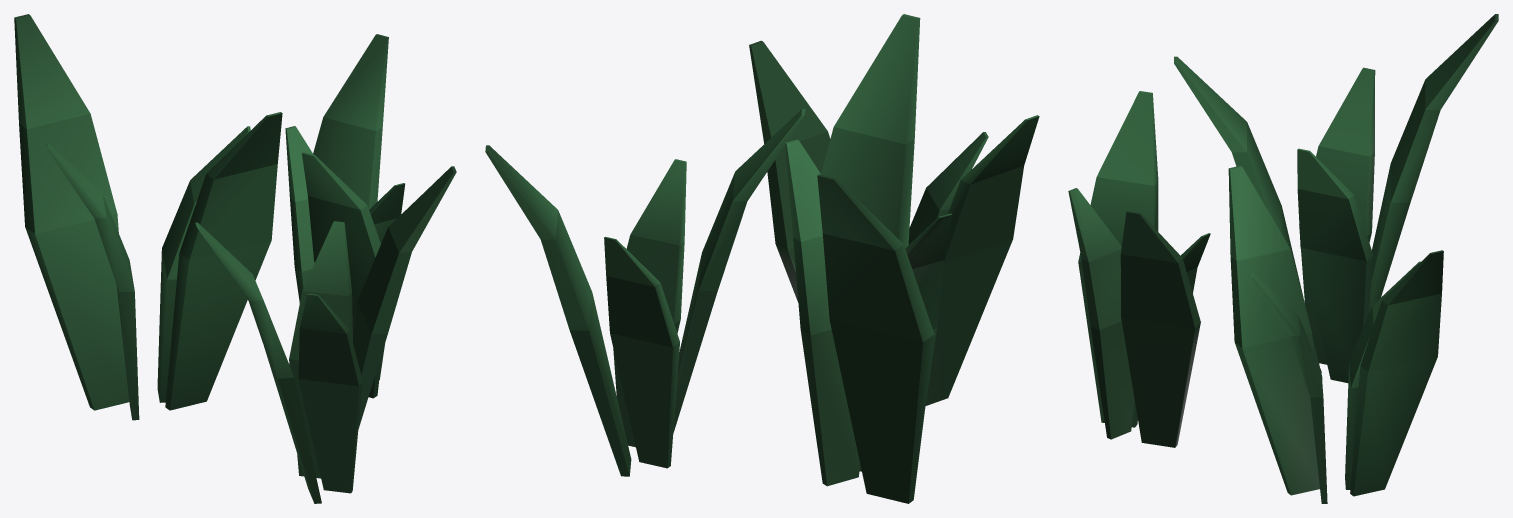
The model's file is grass_1.fbx.
3 renders of one model, left to right at view 1: azimuth 30°, elevation 25°; view 2: azimuth 150°, elevation 25°; view 3: azimuth 270°, elevation 25°, orthographic. The views are drawn at different scales.
Visible parts, largest first — view 1: Cube.510; view 2: Cube.510; view 3: Cube.510.
Part boxes in pixels (bbox=[...]): Cube.510: bbox=[14, 14, 456, 503]; Cube.510: bbox=[485, 14, 1039, 503]; Cube.510: bbox=[1068, 14, 1498, 503].
Bounding box in the file's own units: 61.35 × 56.61 × 61.69.
